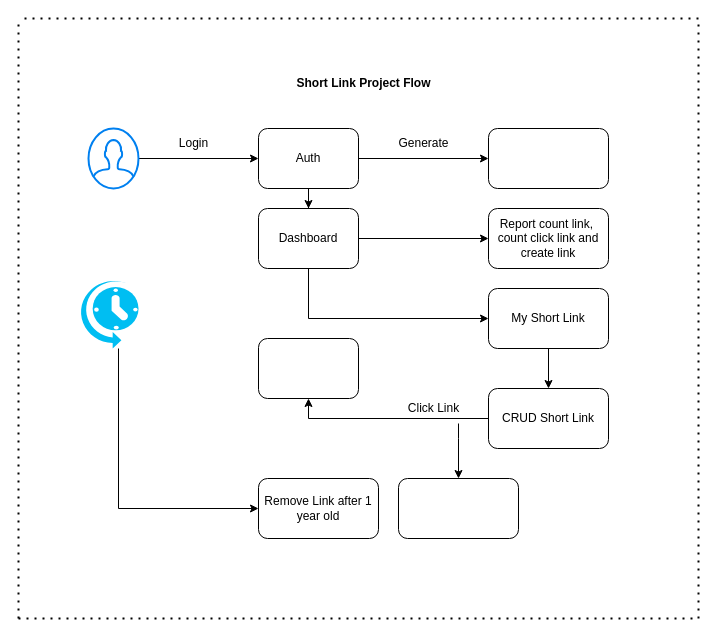
Some shapes in this 717 by 637 pixel diagram are drawn without their labels. Here are the shapes that lost their labels. From the top down, the centre of each, then its label:
point 548,158: Short Link
point 308,368: Redirect to away
point 458,508: Create Click Link Log
